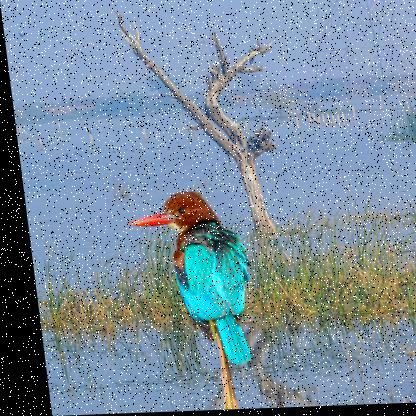Burung: (120, 190, 257, 413)
